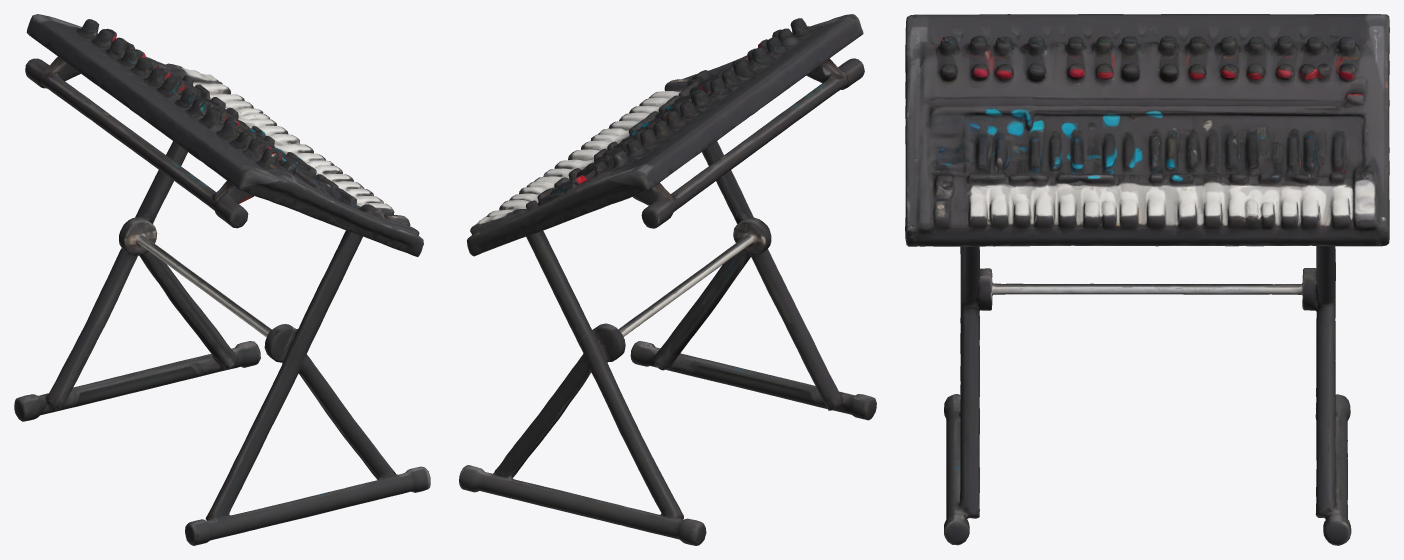
File: piano.glb
3 renders of one model, left to right at view 1: azimuth 30°, elevation 25°; view 2: azimuth 150°, elevation 25°; view 3: azimuth 270°, elevation 25°, orthographic. The views are drawn at different scales.
Size of the model in its own units: 1.27 by 1.94 by 2.01.
1 material, 1 textured.
